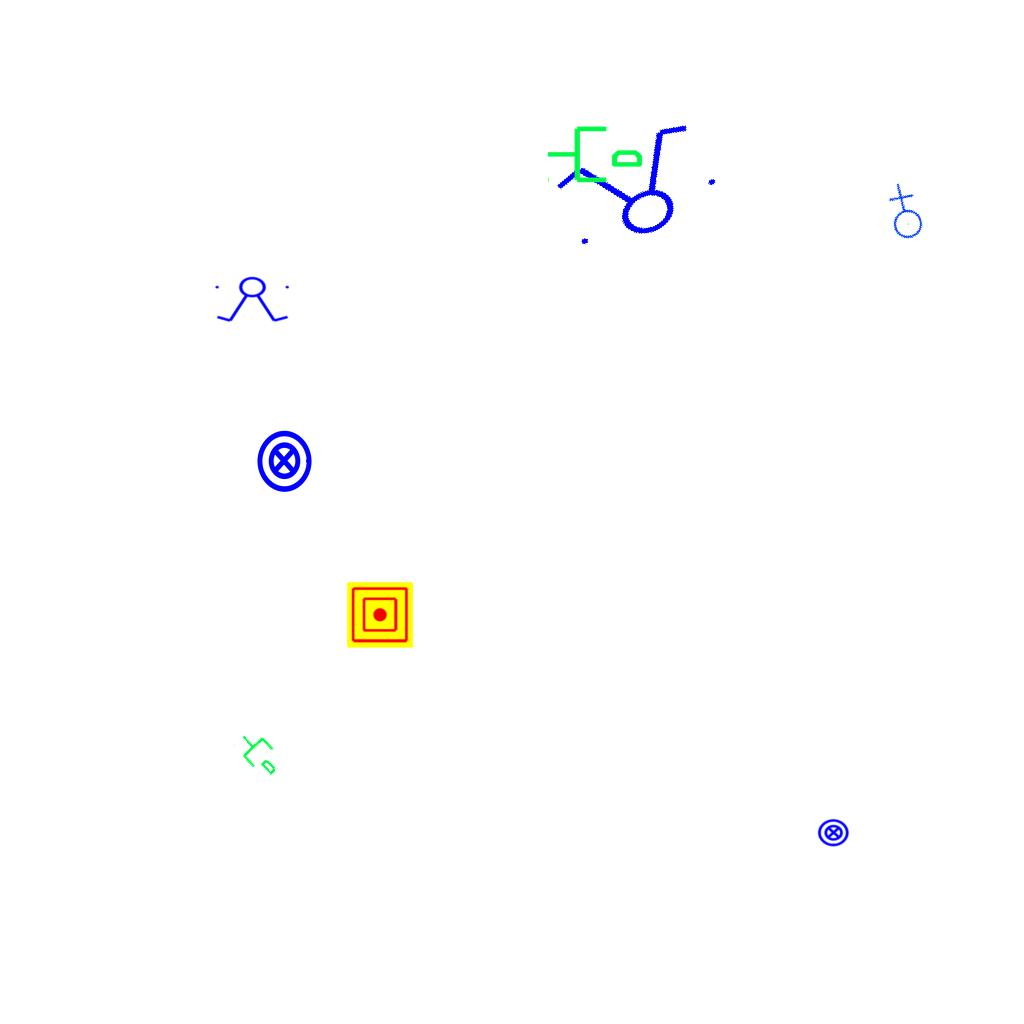Datenanschluss_einfach: (545, 118, 645, 187), (230, 723, 290, 783)
Elektroanschluss_allgemein_230V_Geraeteanschlussdose_230V: (870, 181, 937, 248)
NAM-Nichtautomatischer_Melder: (347, 582, 413, 648)
Serienschalter: (539, 109, 733, 269), (211, 276, 295, 324)
Taster_beleuchtet: (251, 428, 317, 494), (817, 816, 850, 849)
